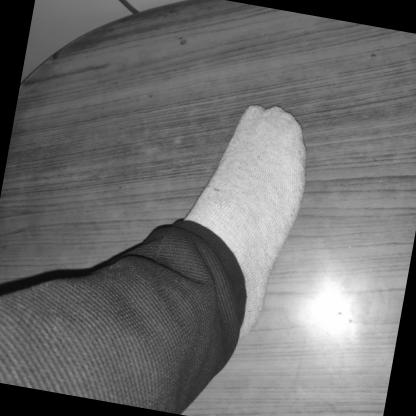ankle: (228, 290, 234, 296)
heel: (238, 330, 244, 338)
pinky: (295, 152, 302, 159)
right_foot: (165, 94, 319, 348)
toe: (251, 109, 258, 116)
